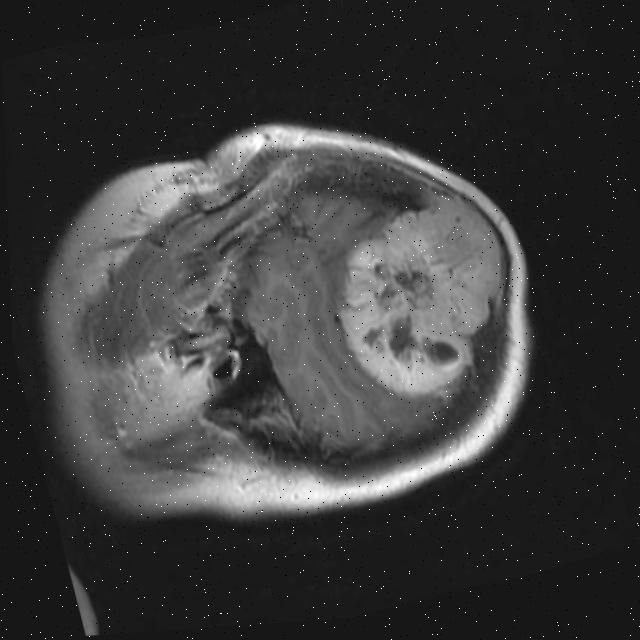Meningioma: (310, 176, 533, 420)
